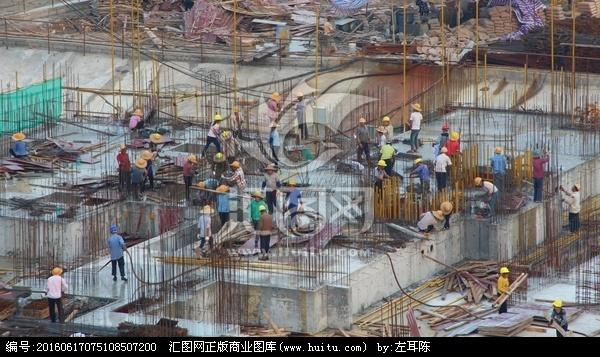Helmet: (553, 299, 563, 312), (499, 266, 510, 277), (109, 225, 117, 233)
NoHelmet: (199, 203, 215, 216), (441, 201, 453, 215), (432, 208, 443, 221)
NoVest: (107, 234, 124, 261)
